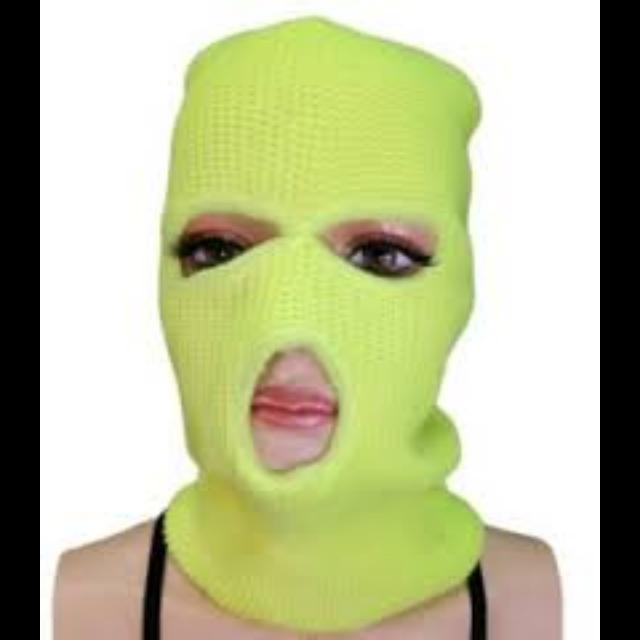criminal: (52, 17, 565, 640)
